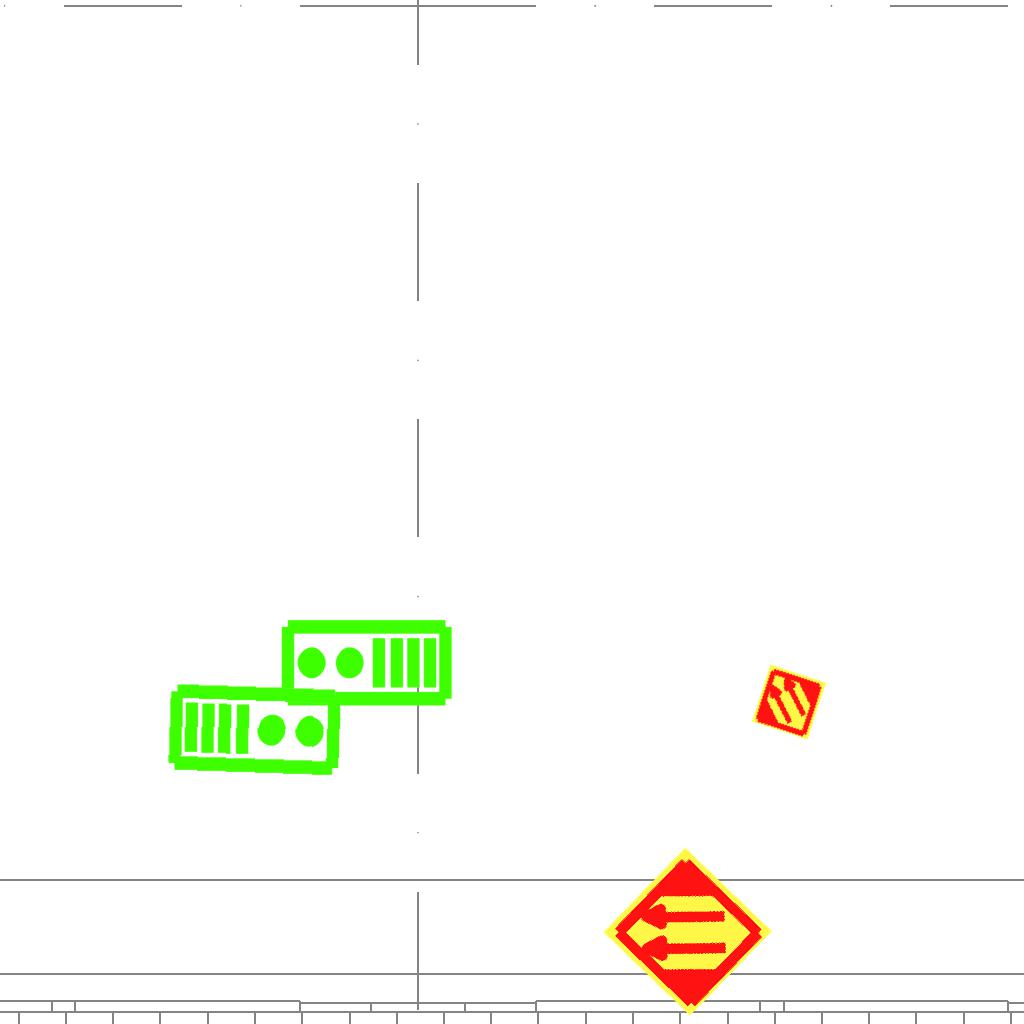ASR_Ansaugrauchmelder: (599, 843, 776, 1020), (749, 662, 829, 742)
Gegensprechanlage_mit_Video: (165, 677, 346, 779), (278, 617, 454, 712)
